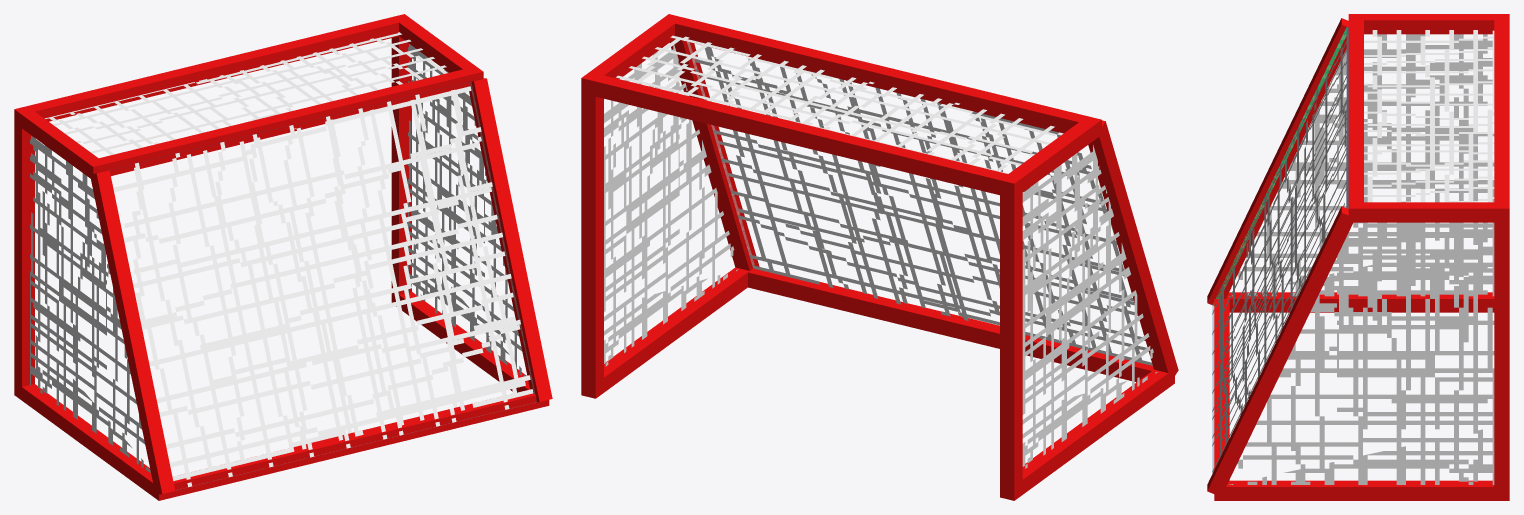
The model's file is hockey-goal-named-nodes.gltf.
3 renders of one model, left to right at view 1: azimuth 30°, elevation 25°; view 2: azimuth 150°, elevation 25°; view 3: azimuth 270°, elevation 25°, orthographic. The views are drawn at different scales.
Visible parts, largest first — view 1: obj13, cuboid (×3), obj3, obj9, obj10, obj6, obj11, obj1, obj4, obj2, obj5, obj7 (+1 smaller); view 2: cuboid (×3), obj13, obj3, obj9, obj6, obj1, obj2, obj10, obj4, obj5, obj11, obj7 (+1 smaller); view 3: cuboid (×3), obj13, obj11, obj5, obj10, obj2, obj3, obj4, obj8, obj9, obj7, obj6.
Boxes of the visible parts, <box> form: obj13: <box>107,81,536,490</box>; cuboid (×3): <box>30,32,525,472</box>; obj3: <box>14,14,411,127</box>; obj9: <box>99,69,470,175</box>; obj10: <box>91,170,175,494</box>; obj6: <box>172,393,536,497</box>; obj11: <box>469,78,552,402</box>; obj1: <box>14,123,34,400</box>; obj4: <box>18,384,171,500</box>; obj2: <box>391,36,411,306</box>; obj5: <box>399,292,549,408</box>; obj7: <box>18,109,106,180</box>; cuboid (×3): <box>604,35,1157,468</box>; obj13: <box>687,41,1152,365</box>; obj3: <box>581,72,1022,198</box>; obj9: <box>675,17,1086,133</box>; obj6: <box>748,268,1153,382</box>; obj1: <box>1000,193,1022,500</box>; obj2: <box>581,93,603,398</box>; obj10: <box>1088,120,1178,381</box>; obj4: <box>1018,369,1174,497</box>; obj5: <box>600,267,749,395</box>; obj11: <box>669,39,759,270</box>; obj7: <box>1006,116,1101,195</box>; cuboid (×3): <box>1229,30,1494,484</box>; obj13: <box>1212,27,1348,473</box>; obj11: <box>1207,206,1354,493</box>; obj5: <box>1214,480,1501,500</box>; obj10: <box>1207,18,1348,305</box>; obj2: <box>1494,222,1509,500</box>; obj3: <box>1494,14,1509,222</box>; obj4: <box>1226,292,1494,312</box>; obj8: <box>1348,202,1501,222</box>; obj9: <box>1348,20,1363,202</box>; obj7: <box>1348,14,1501,34</box>; obj6: <box>1214,299,1229,480</box>.
Size of the model in its own units: 6 by 4.2 by 3.94.
4 materials, 3 textured.
